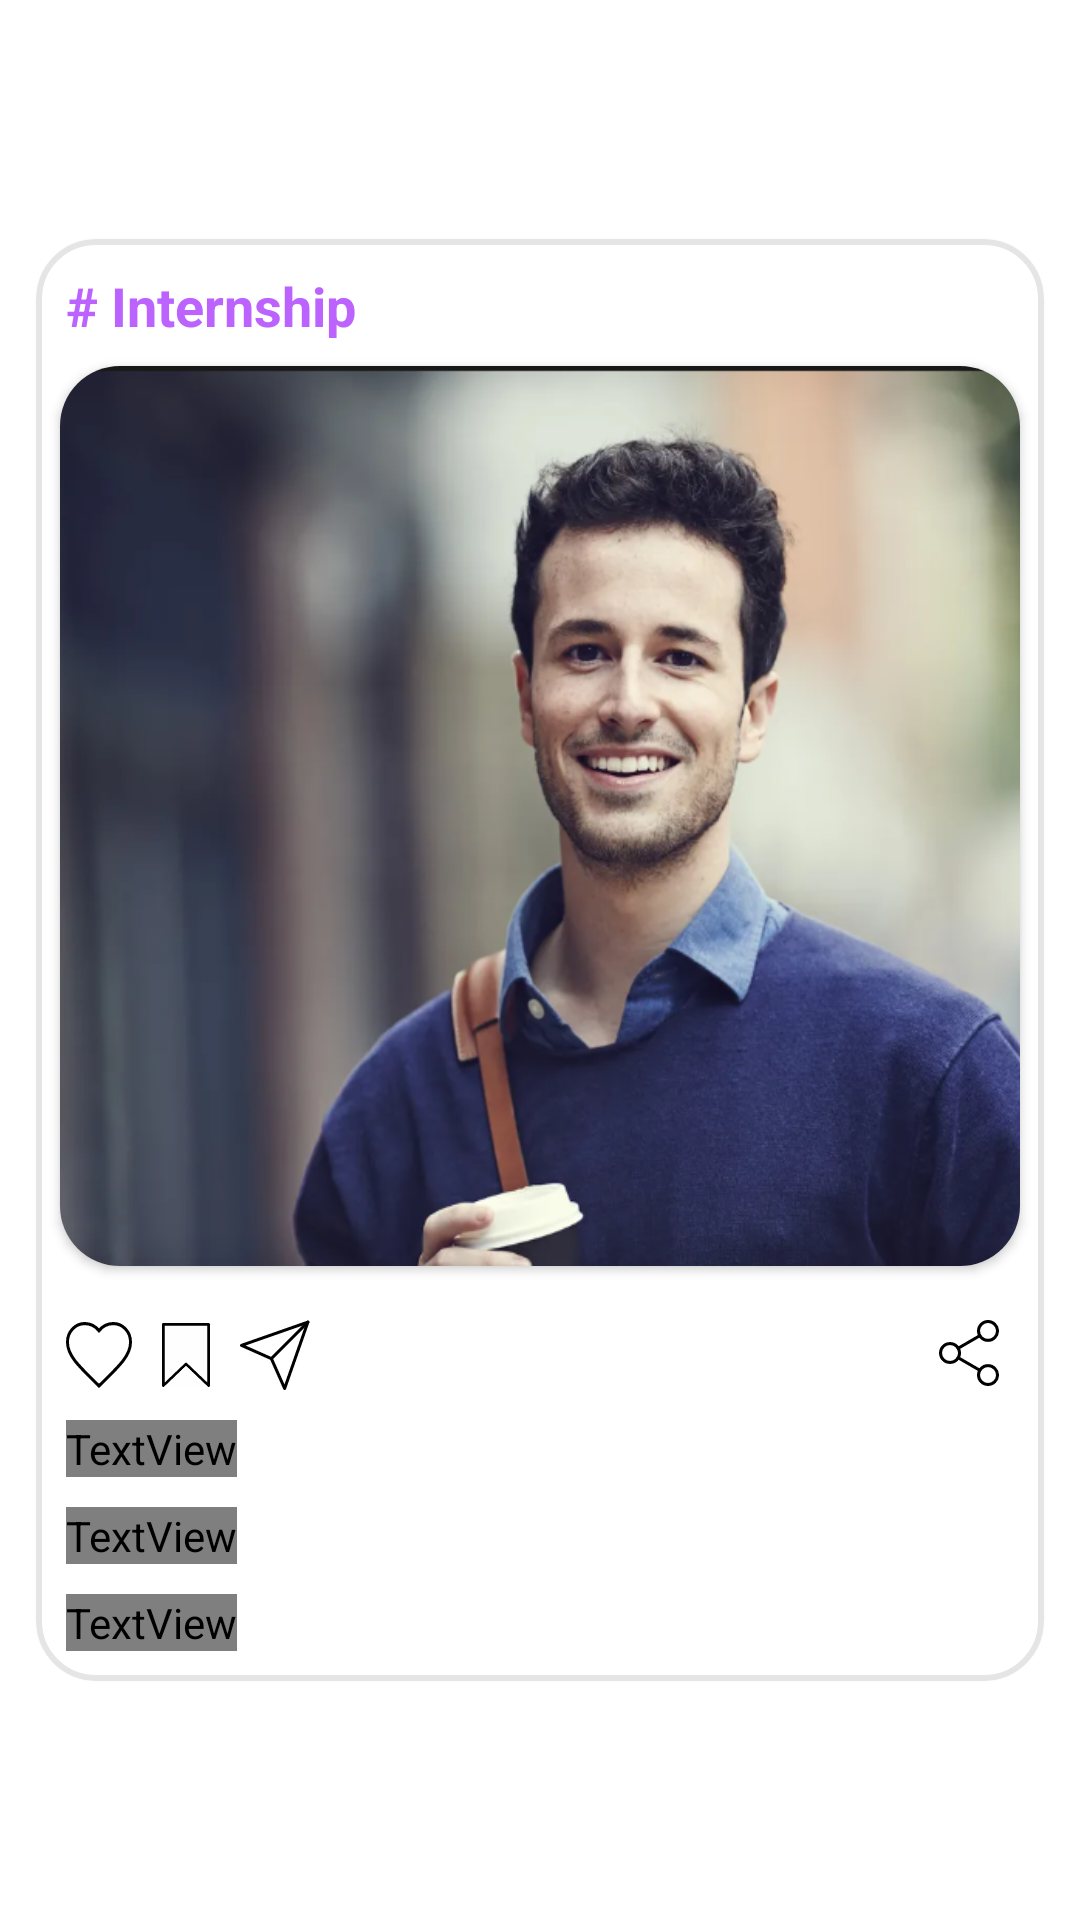

Locate icon controls on the screen. Image size 1080*1920, boxes as bbox=[x1, y1, x2, y2].
favorite: bbox=[66, 1322, 132, 1388]
feather send: bbox=[240, 1320, 310, 1390]
feather share: bbox=[939, 1320, 999, 1386]
